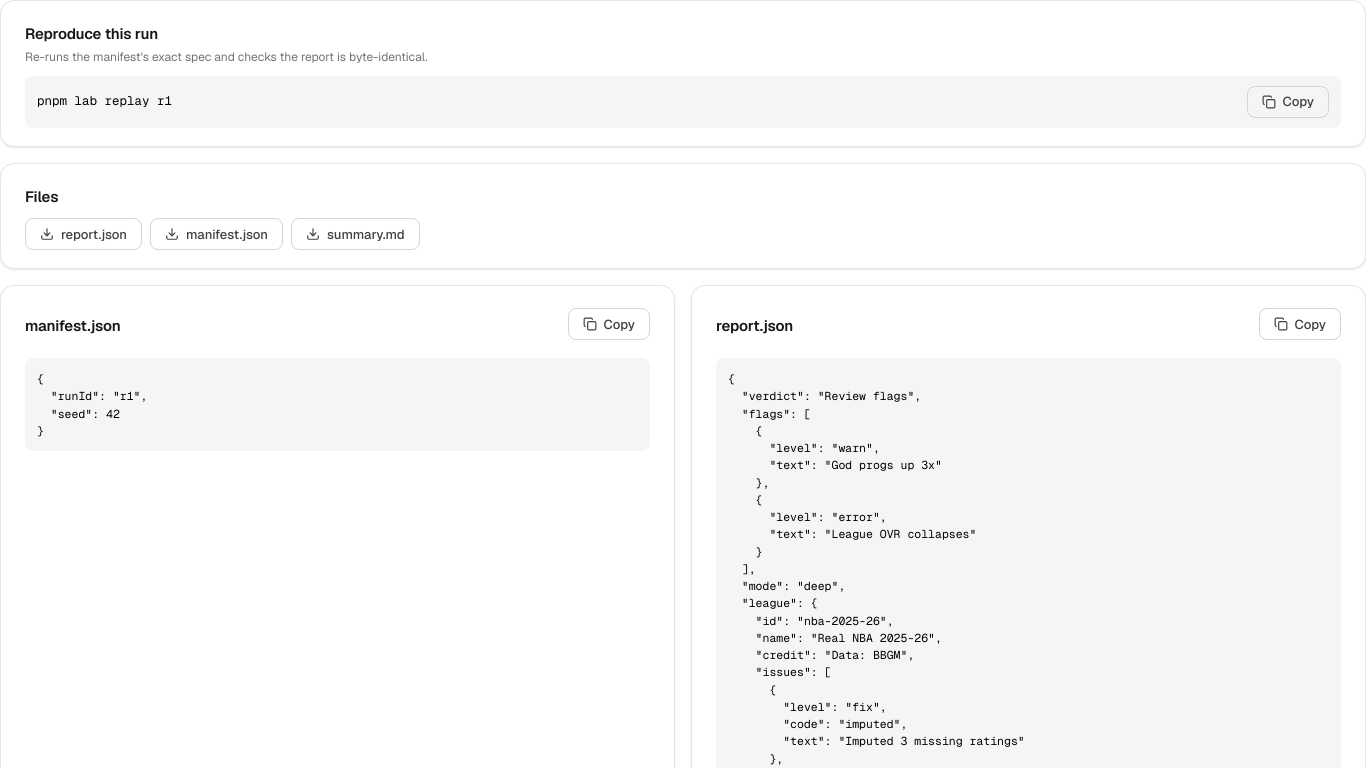
Test case: LabAudit › copies manifest.json text
The image size is (1366, 768).
Click the button with test id "copy-manifest". click: [609, 324]
box: [568,308,650,340]
(page scrolled)
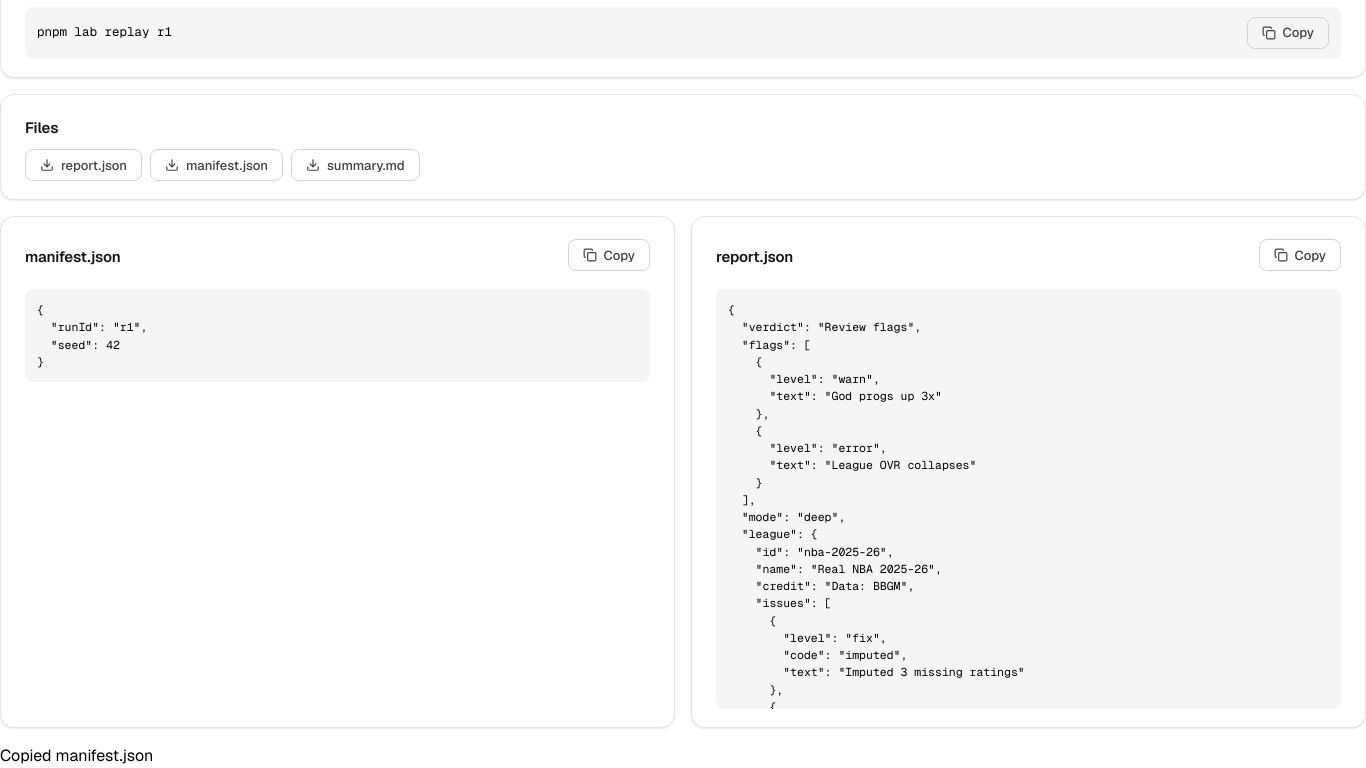
Expected: the message "Copied manifest.json" is shown, [0,745,153,766]
